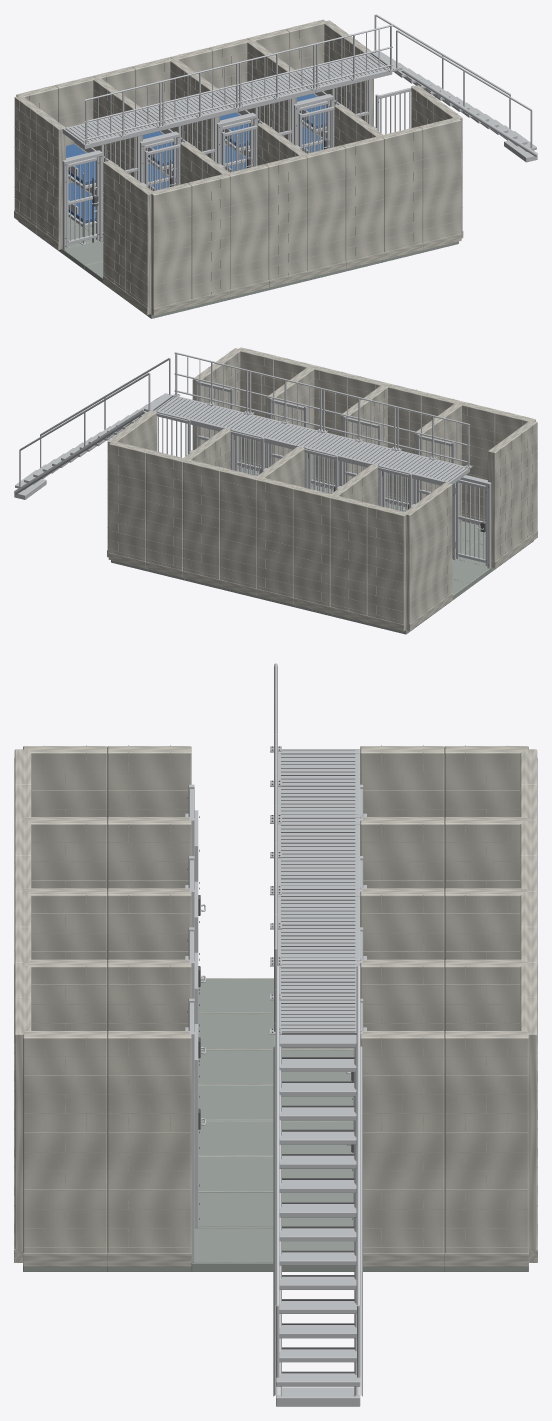
Rendered from prison-complex-builder-eight-cell-block--d889aedd-starter-scene__25718.glb.
3 views of the same model, one above another, from view 1: azimuth 30°, elevation 25°; view 2: azimuth 150°, elevation 25°; view 3: azimuth 270°, elevation 25° (orthographic). The views are drawn at different scales.
Parts seen in each view (by area): view 1: 042-concrete-wall-straight/0, 051-concrete-wall-straight/0, 043-concrete-wall-straight/0, 059-concrete-wall-straight/0, 066-concrete-wall-straight/0, 058-concrete-wall-straight/0, 050-concrete-wall-straight/0, 067-concrete-wall-straight/0, 069-concrete-wall-straight/0, 079-concrete-wall-straight/0, 078-concrete-wall-straight/0, 068-concrete-wall-straight/0 (+75 smaller); view 2: 006-concrete-wall-straight/0, 007-concrete-wall-straight/0, 016-concrete-wall-straight/0, 015-concrete-wall-straight/0, 025-concrete-wall-straight/0, 024-concrete-wall-straight/0, 034-concrete-wall-straight/0, 033-concrete-wall-straight/0, 078-concrete-wall-straight/0, 068-concrete-wall-straight/0, 043-concrete-wall-straight/0, 069-concrete-wall-straight/0 (+65 smaller); view 3: 112-cell-block-stair/1, 087-concrete-wall-straight/0, 086-concrete-wall-straight/0, 076-concrete-wall-straight/0, 077-concrete-wall-straight/0, 075-concrete-wall-straight/0, 084-concrete-wall-straight/0, 073-concrete-wall-straight/0, 082-concrete-wall-straight/0, 071-concrete-wall-straight/0, 080-concrete-wall-straight/0, 069-concrete-wall-straight/0 (+39 smaller).
Part boxes in pixels (bbox=[...]): 042-concrete-wall-straight/0: bbox=[150, 183, 191, 314]; 051-concrete-wall-straight/0: bbox=[265, 155, 307, 280]; 043-concrete-wall-straight/0: bbox=[188, 174, 230, 299]; 059-concrete-wall-straight/0: bbox=[342, 136, 383, 261]; 066-concrete-wall-straight/0: bbox=[381, 126, 422, 252]; 058-concrete-wall-straight/0: bbox=[304, 145, 345, 270]; 050-concrete-wall-straight/0: bbox=[228, 164, 268, 289]; 067-concrete-wall-straight/0: bbox=[419, 118, 460, 242]; 069-concrete-wall-straight/0: bbox=[36, 111, 65, 249]; 079-concrete-wall-straight/0: bbox=[125, 176, 153, 314]; 078-concrete-wall-straight/0: bbox=[103, 160, 132, 291]; 068-concrete-wall-straight/0: bbox=[14, 95, 43, 226]; 006-concrete-wall-straight/0: bbox=[367, 504, 406, 630]; 007-concrete-wall-straight/0: bbox=[330, 495, 370, 615]; 016-concrete-wall-straight/0: bbox=[256, 477, 296, 597]; 015-concrete-wall-straight/0: bbox=[293, 486, 332, 606]; 025-concrete-wall-straight/0: bbox=[183, 459, 223, 579]; 024-concrete-wall-straight/0: bbox=[220, 468, 259, 588]; 034-concrete-wall-straight/0: bbox=[109, 441, 149, 561]; 033-concrete-wall-straight/0: bbox=[146, 450, 185, 570]; 078-concrete-wall-straight/0: bbox=[488, 435, 516, 561]; 068-concrete-wall-straight/0: bbox=[404, 498, 430, 623]; 043-concrete-wall-straight/0: bbox=[461, 401, 498, 519]; 069-concrete-wall-straight/0: bbox=[424, 482, 452, 608]; 112-cell-block-stair/1: bbox=[275, 966, 360, 1386]; 087-concrete-wall-straight/0: bbox=[23, 1031, 107, 1264]; 086-concrete-wall-straight/0: bbox=[107, 1031, 191, 1252]; 076-concrete-wall-straight/0: bbox=[444, 1031, 528, 1252]; 077-concrete-wall-straight/0: bbox=[360, 1031, 444, 1252]; 075-concrete-wall-straight/0: bbox=[360, 959, 444, 1031]; 084-concrete-wall-straight/0: bbox=[107, 959, 191, 1031]; 073-concrete-wall-straight/0: bbox=[360, 888, 444, 960]; 082-concrete-wall-straight/0: bbox=[107, 888, 191, 960]; 071-concrete-wall-straight/0: bbox=[360, 817, 444, 888]; 080-concrete-wall-straight/0: bbox=[107, 817, 191, 888]; 069-concrete-wall-straight/0: bbox=[360, 746, 444, 817].
Bounding box in the file's own units: 11.89 × 4.24 × 6.21.
Materials: 5 (1 with a texture image).
